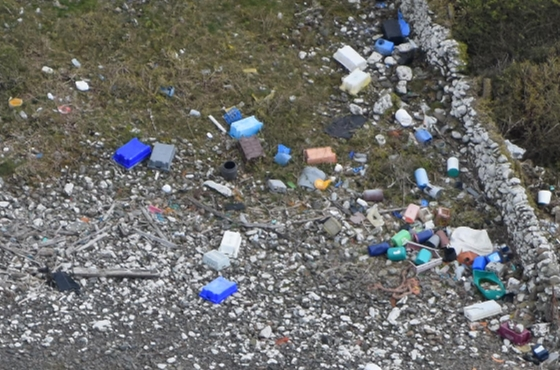scattered_barrel: (4, 47, 96, 122)
straight_bar: (69, 254, 162, 285)
together_barrel: (294, 7, 557, 367), (105, 77, 295, 308)
